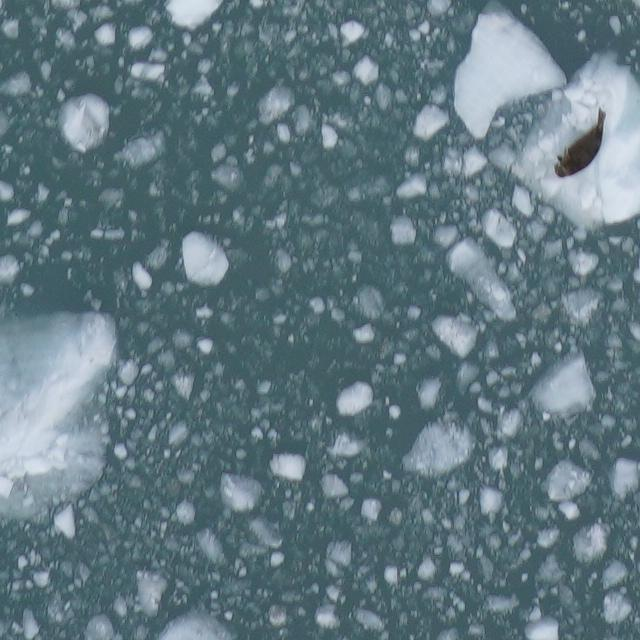seal: (550, 104, 613, 182)
